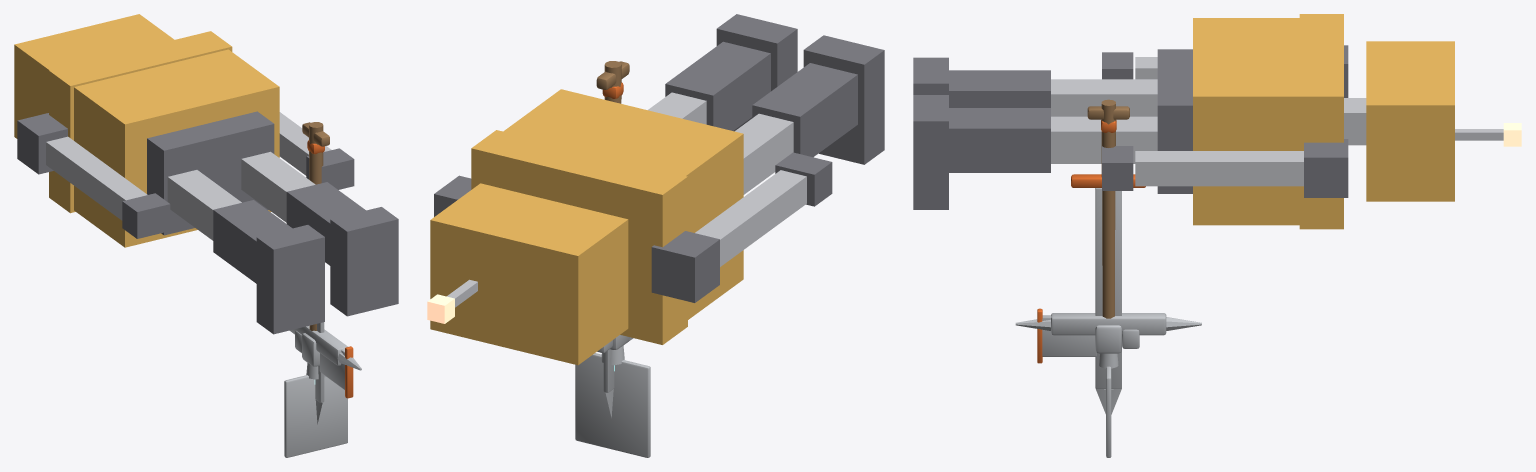
File: robot_held.gltf
3 renders of one model, left to right at view 1: azimuth 30°, elevation 25°; view 2: azimuth 150°, elevation 25°; view 3: azimuth 270°, elevation 25°, orthographic. The views are drawn at different scales.
Visible parts, largest first — view 1: helpers_robot_held; view 2: helpers_robot_held; view 3: helpers_robot_held.
Boxes of the visible parts, x1=… form: helpers_robot_held: x1=14, y1=14, x2=398, y2=457; helpers_robot_held: x1=427, y1=14, x2=884, y2=457; helpers_robot_held: x1=913, y1=14, x2=1521, y2=457.
Bounding box in the file's own units: 0.0876 × 0.127 × 0.2.
